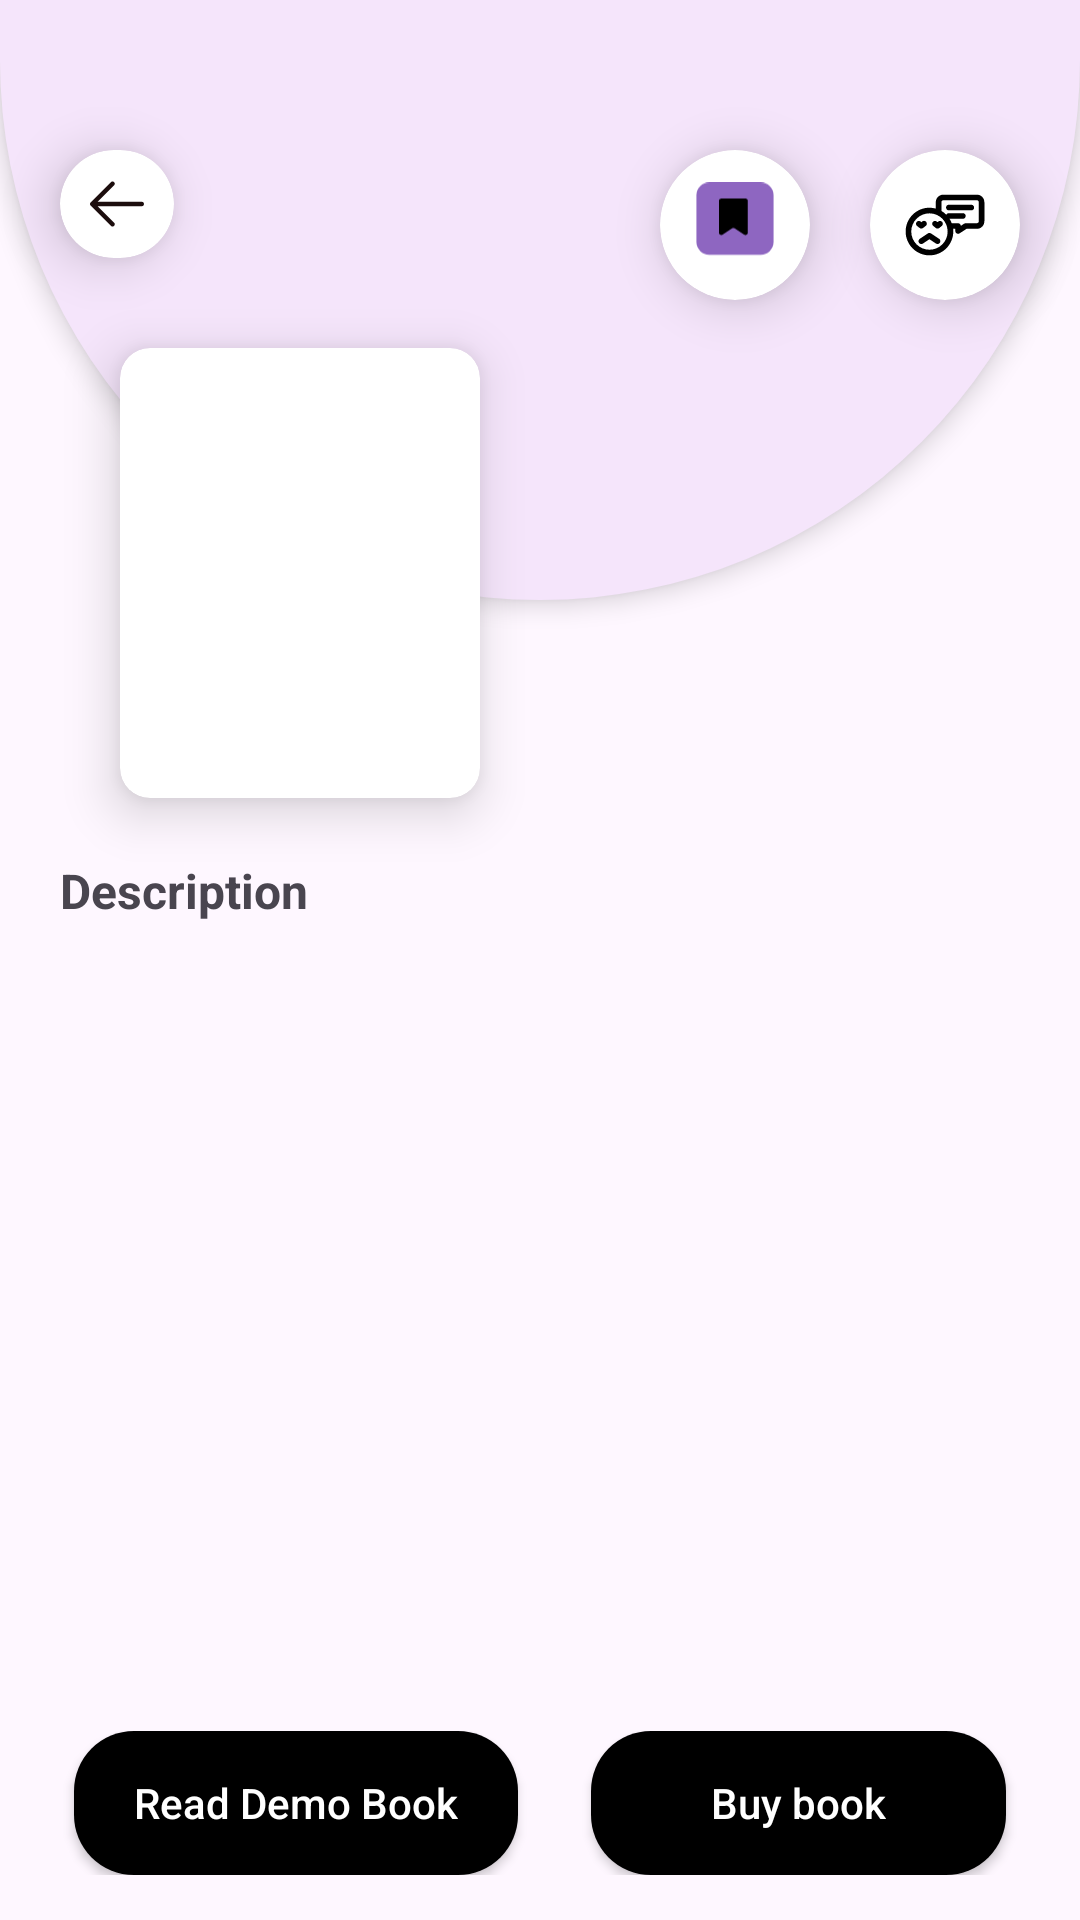

Locate icon controls on the screen. Image size 1080×1920, boxes as [x1,y1,x2,y2].
back: [90,181,144,227]
review: [905,194,985,256]
saved: [696,182,774,256]
